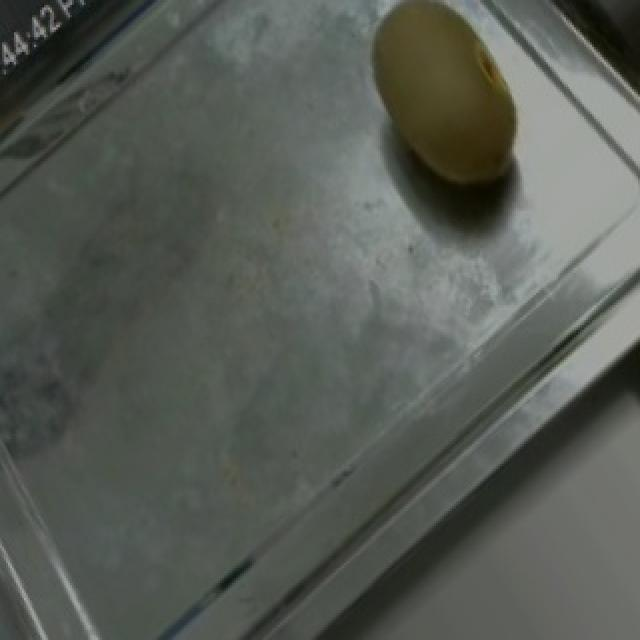Fruit: (336, 0, 558, 223)
